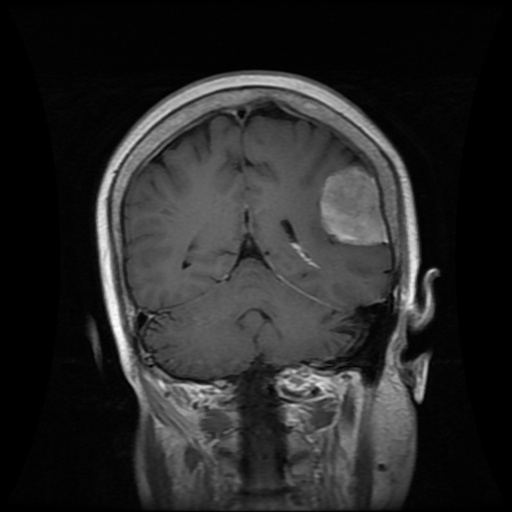meningioma: (318, 165, 387, 245)
